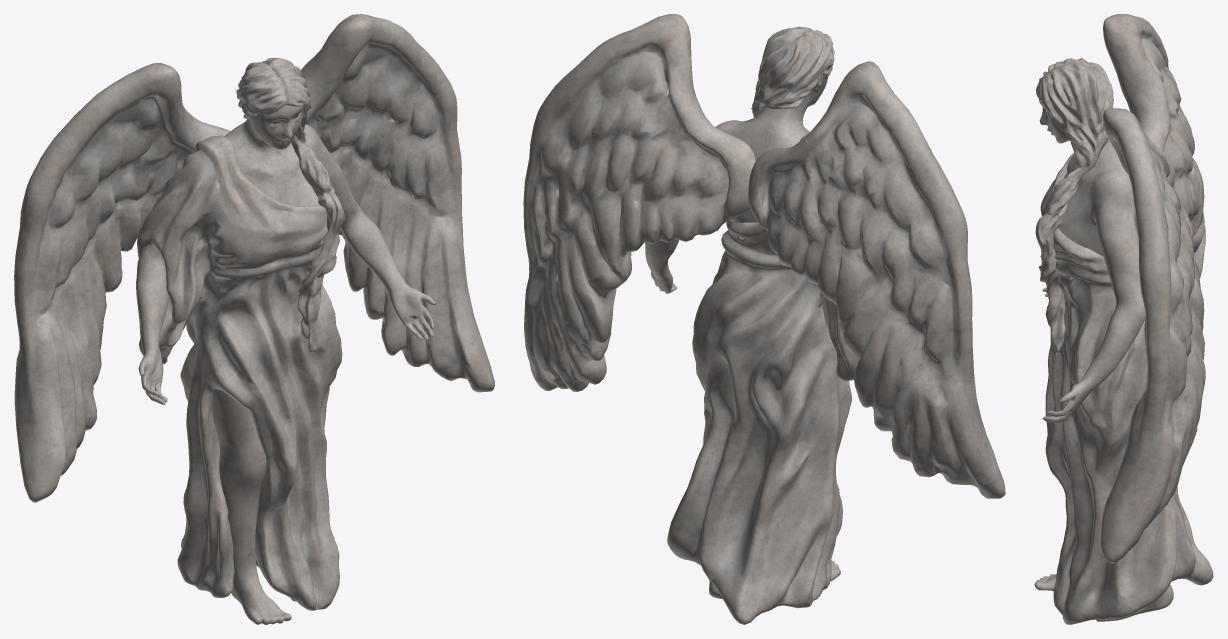
File: Statue_A.fbx
The picture shows the model from 3 angles, left to right: view 1: azimuth 30°, elevation 25°; view 2: azimuth 150°, elevation 25°; view 3: azimuth 270°, elevation 25°; orthographic projection. The views are drawn at different scales.
Parts seen in each view (by area): view 1: Statue_A; view 2: Statue_A; view 3: Statue_A.
Boxes of the visible parts, x1,y1,x2,y2 form: Statue_A: [14, 14, 494, 624]; Statue_A: [523, 14, 1005, 624]; Statue_A: [1034, 14, 1213, 624].
Size of the model in its own units: 8.5 by 9.73 by 2.91.
